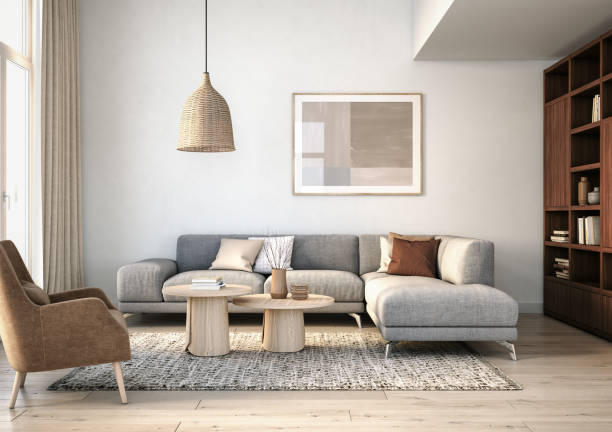chair: (0, 239, 134, 410)
flower vase: (255, 231, 300, 300)
sofa: (112, 230, 522, 365)
table: (160, 279, 253, 358), (230, 291, 335, 353)
wall art: (289, 90, 426, 198)
